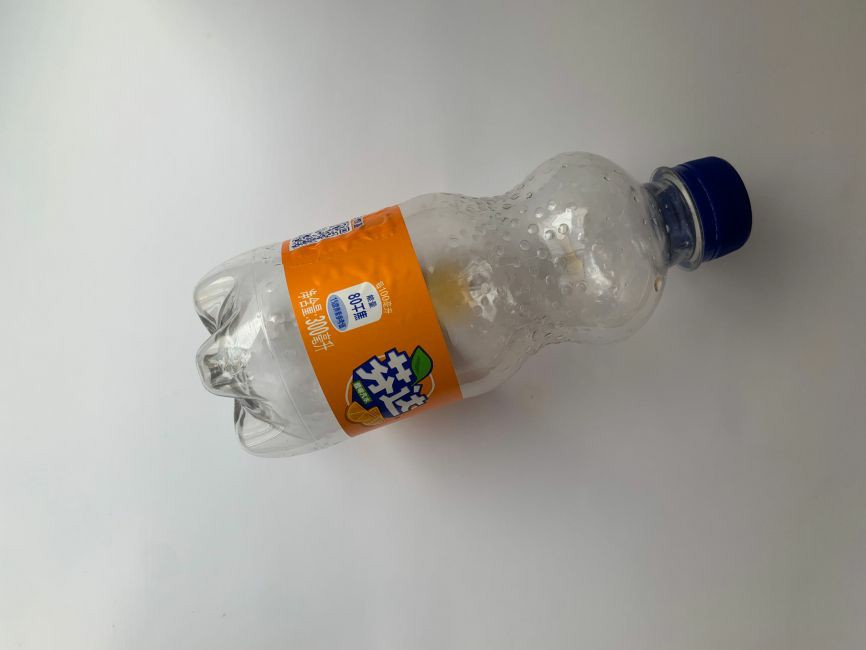bottle: (182, 146, 756, 464)
